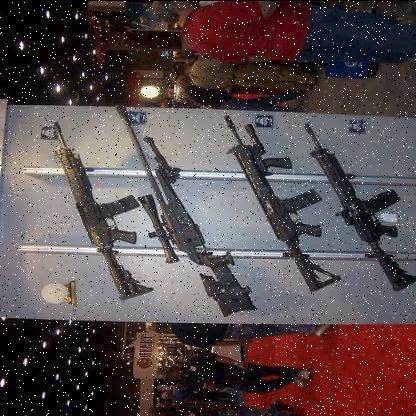rifle: (107, 86, 258, 319), (213, 96, 349, 298), (37, 109, 163, 305), (295, 112, 415, 294)
